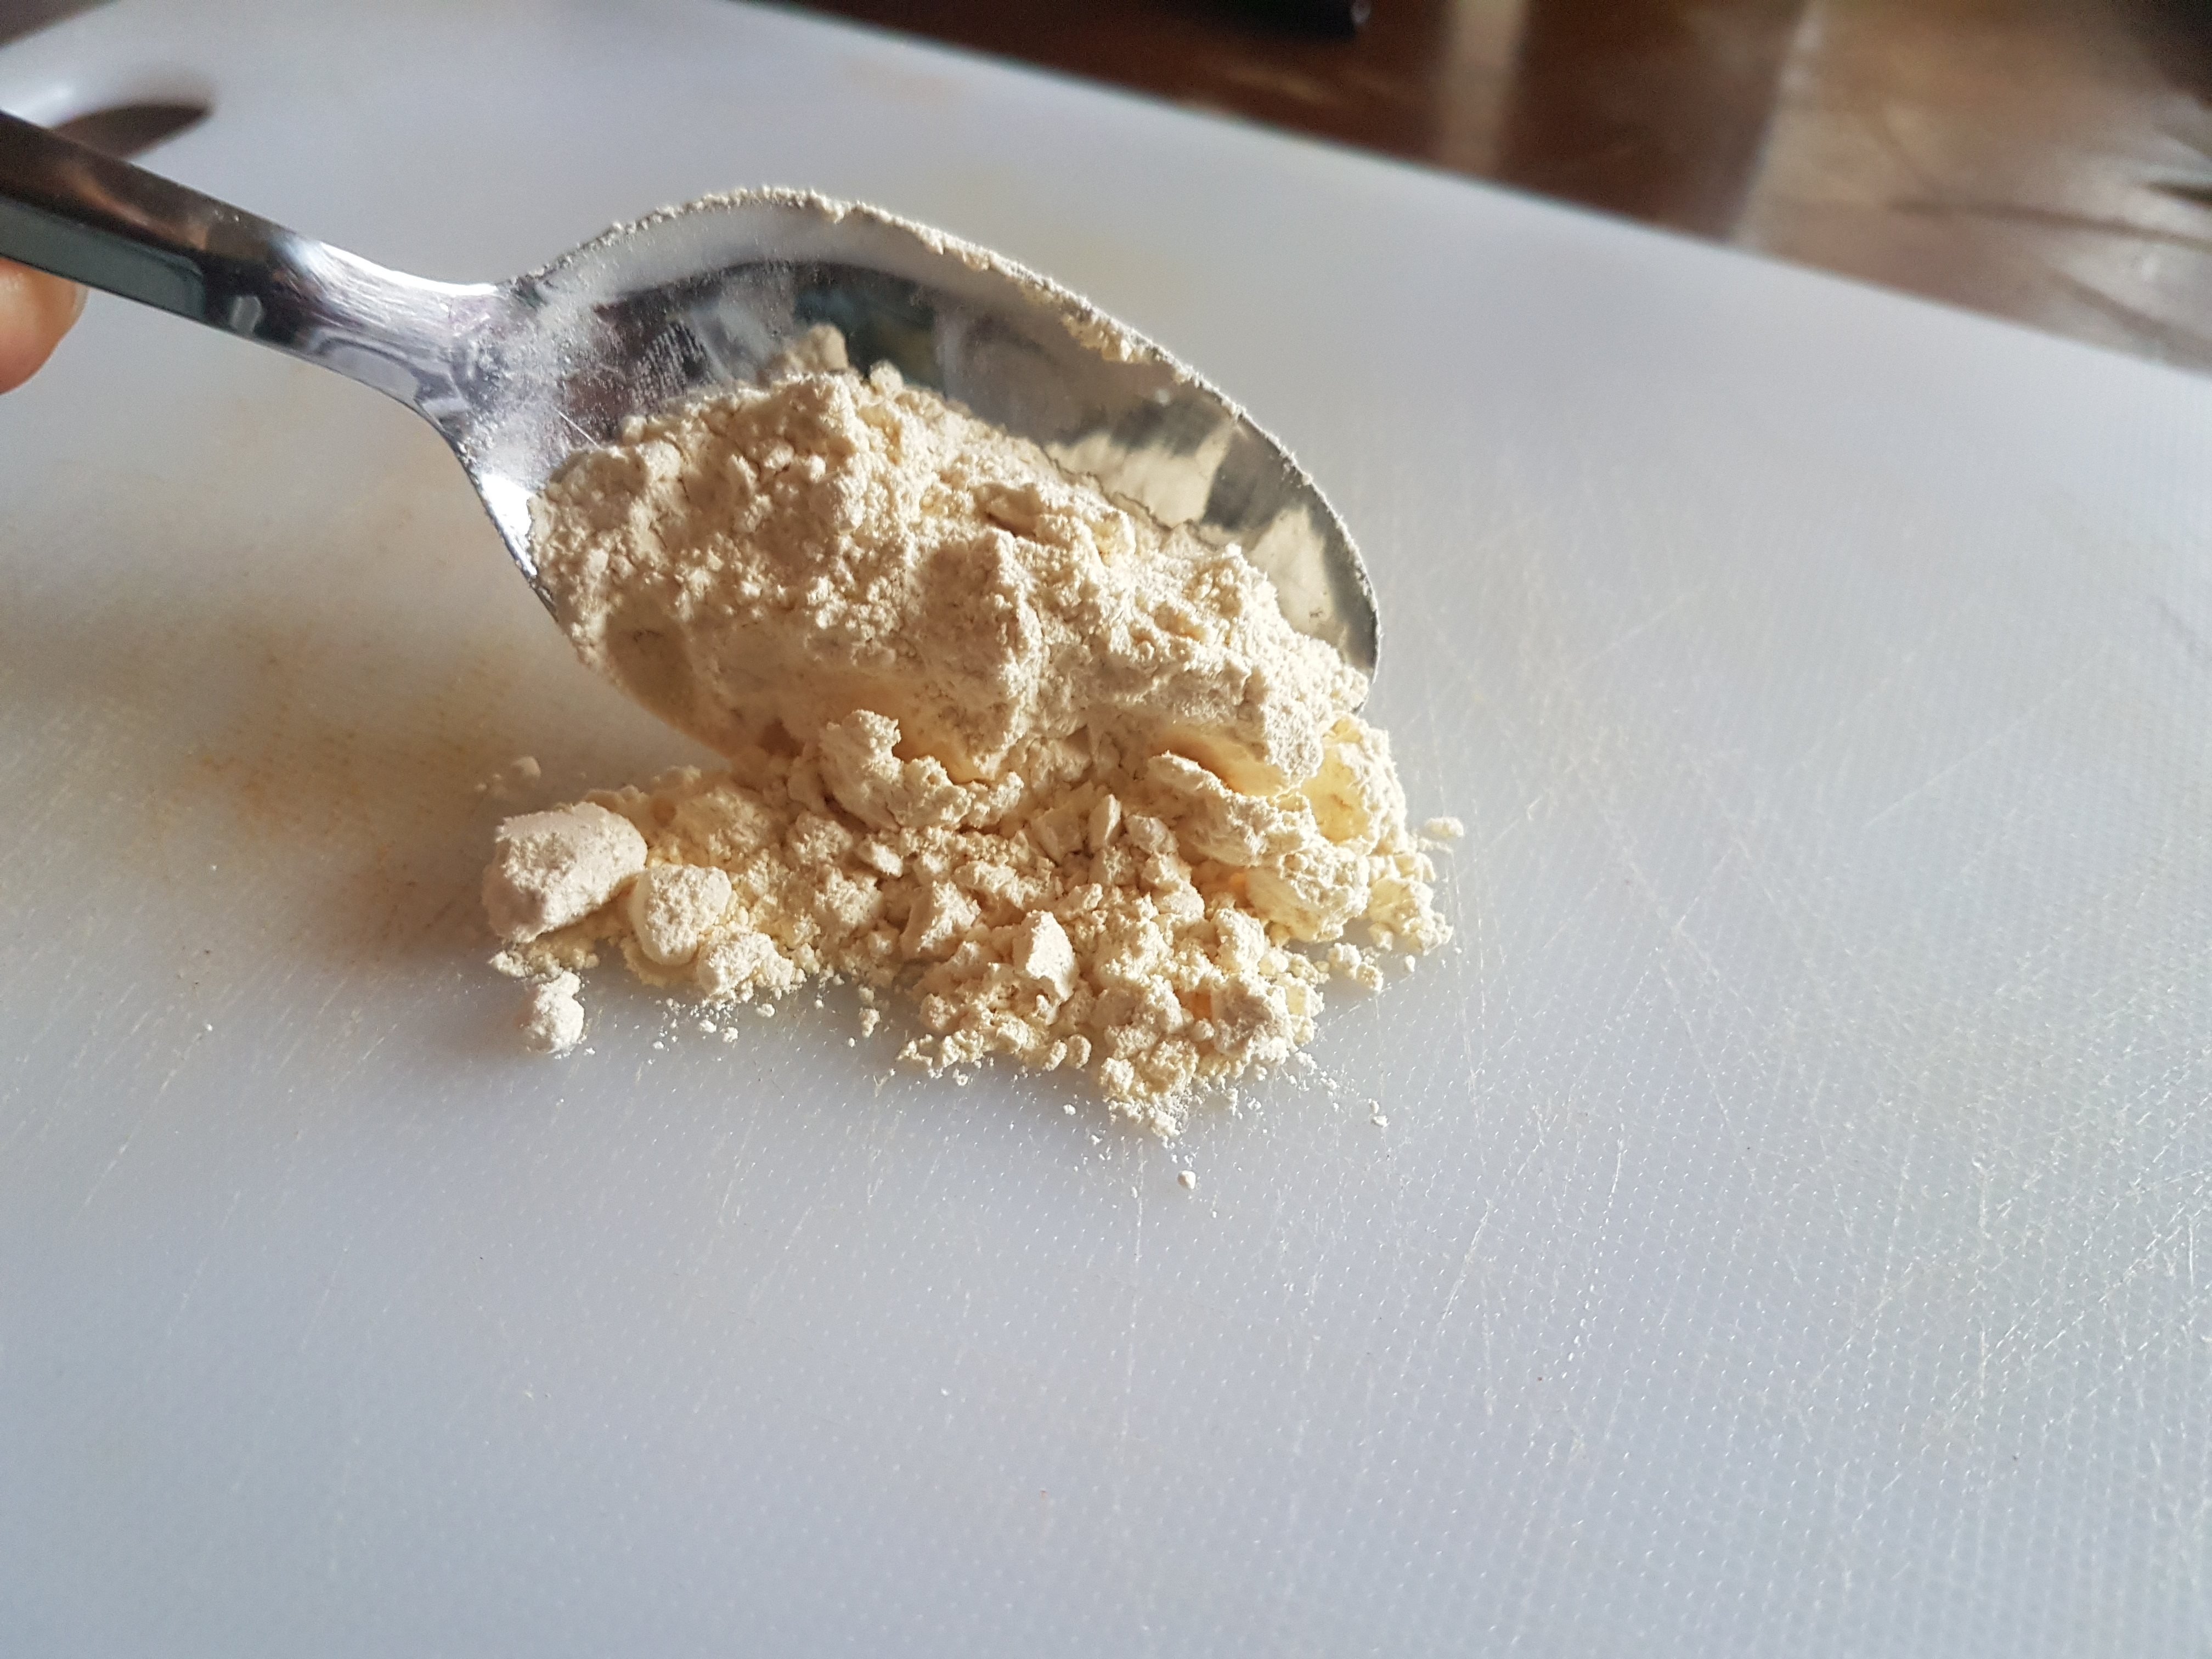Gram Flour: (439, 200, 1512, 1176)
